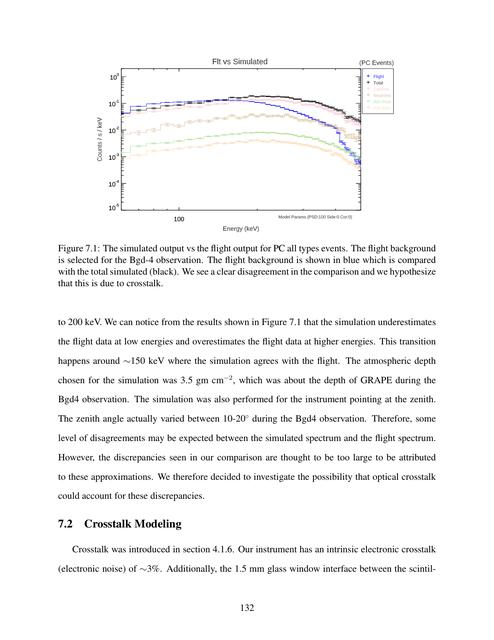box: (95, 55, 396, 236)
